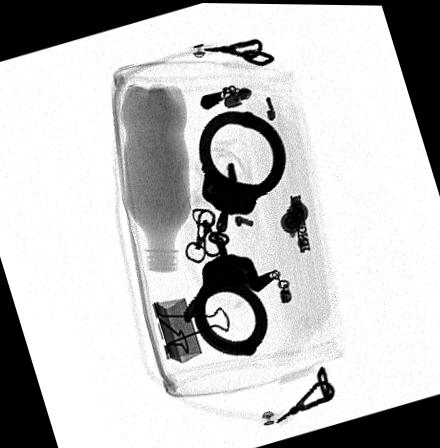HandCuffs: (182, 110, 286, 356)
